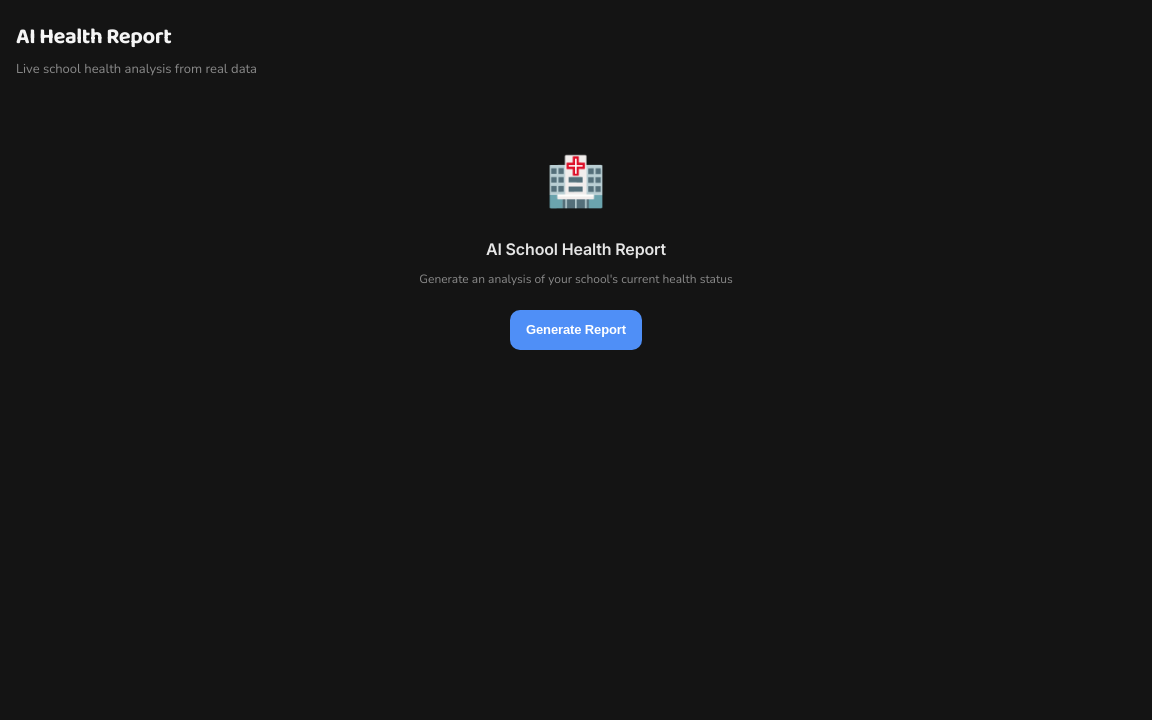
a marked attendance figure is still scored normally
Click the button "Generate Report" at (576, 330), box [510,310,642,350]
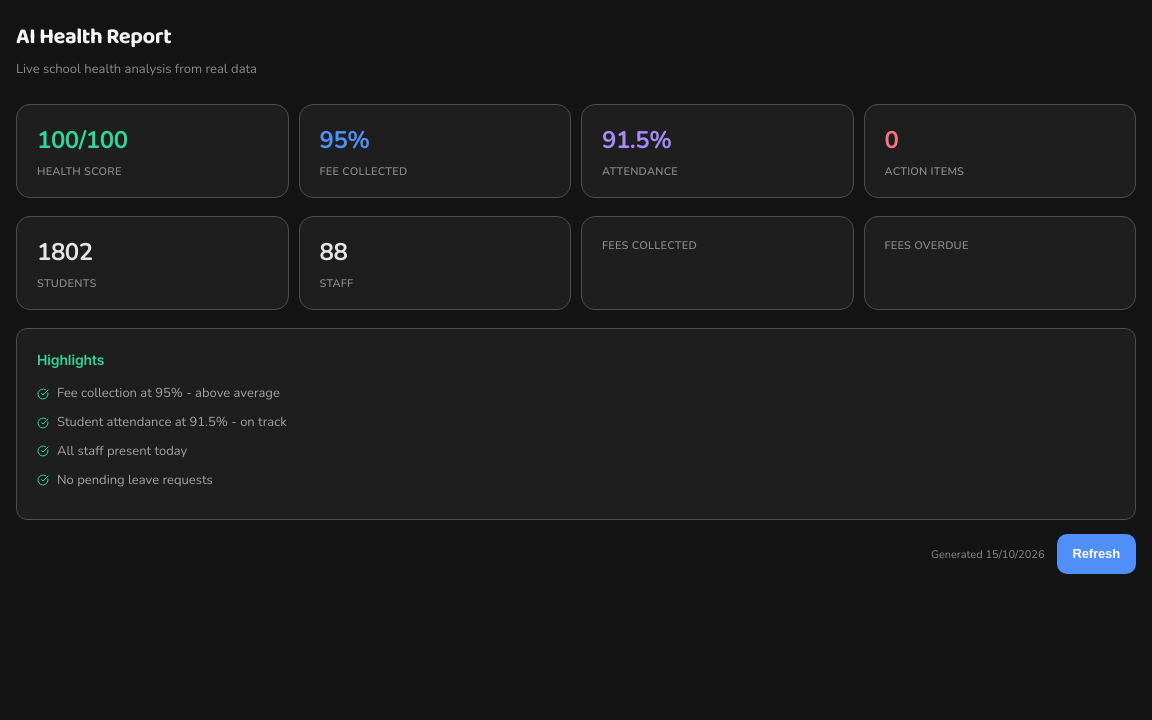
Expected: the text "Student attendance at 91.5% - on track" is shown, [37,413,287,431]
